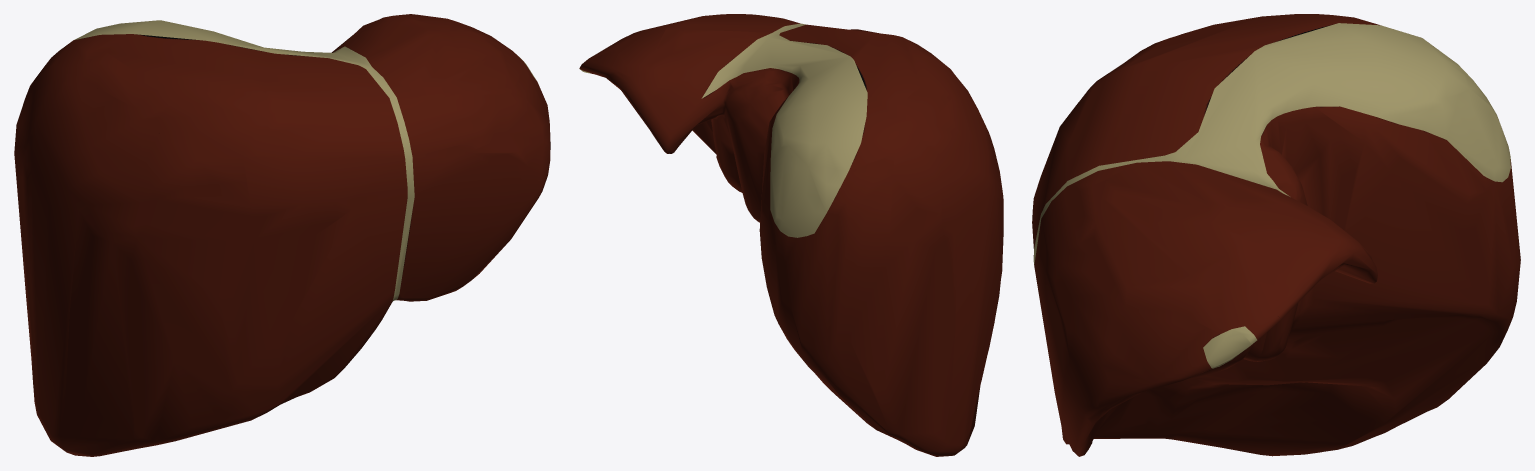
Rendered from Liverb.gltf.
3 views of the same model, side by side, from view 1: azimuth 30°, elevation 25°; view 2: azimuth 150°, elevation 25°; view 3: azimuth 270°, elevation 25° (orthographic). The views are drawn at different scales.
Parts seen in each view (by area): view 1: Liver.007; view 2: Liver.007; view 3: Liver.007.
Boxes of the visible parts, x1,y1,x2,y2 form: Liver.007: (14,14,550,456); Liver.007: (579,14,1003,456); Liver.007: (1032,14,1520,456).
Size of the model in its own units: 0.4063 by 0.3264 by 0.2962.
Materials: 2 (1 with a texture image).
